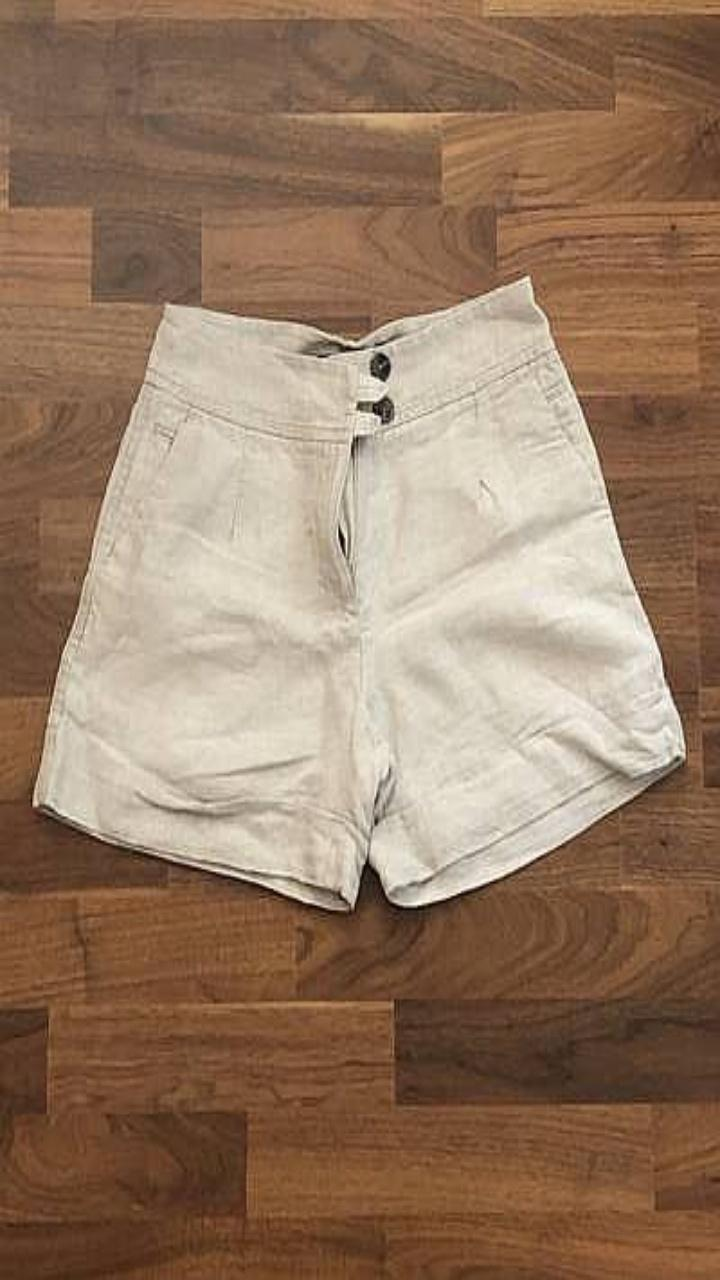Shorts: (32, 276, 685, 910)
